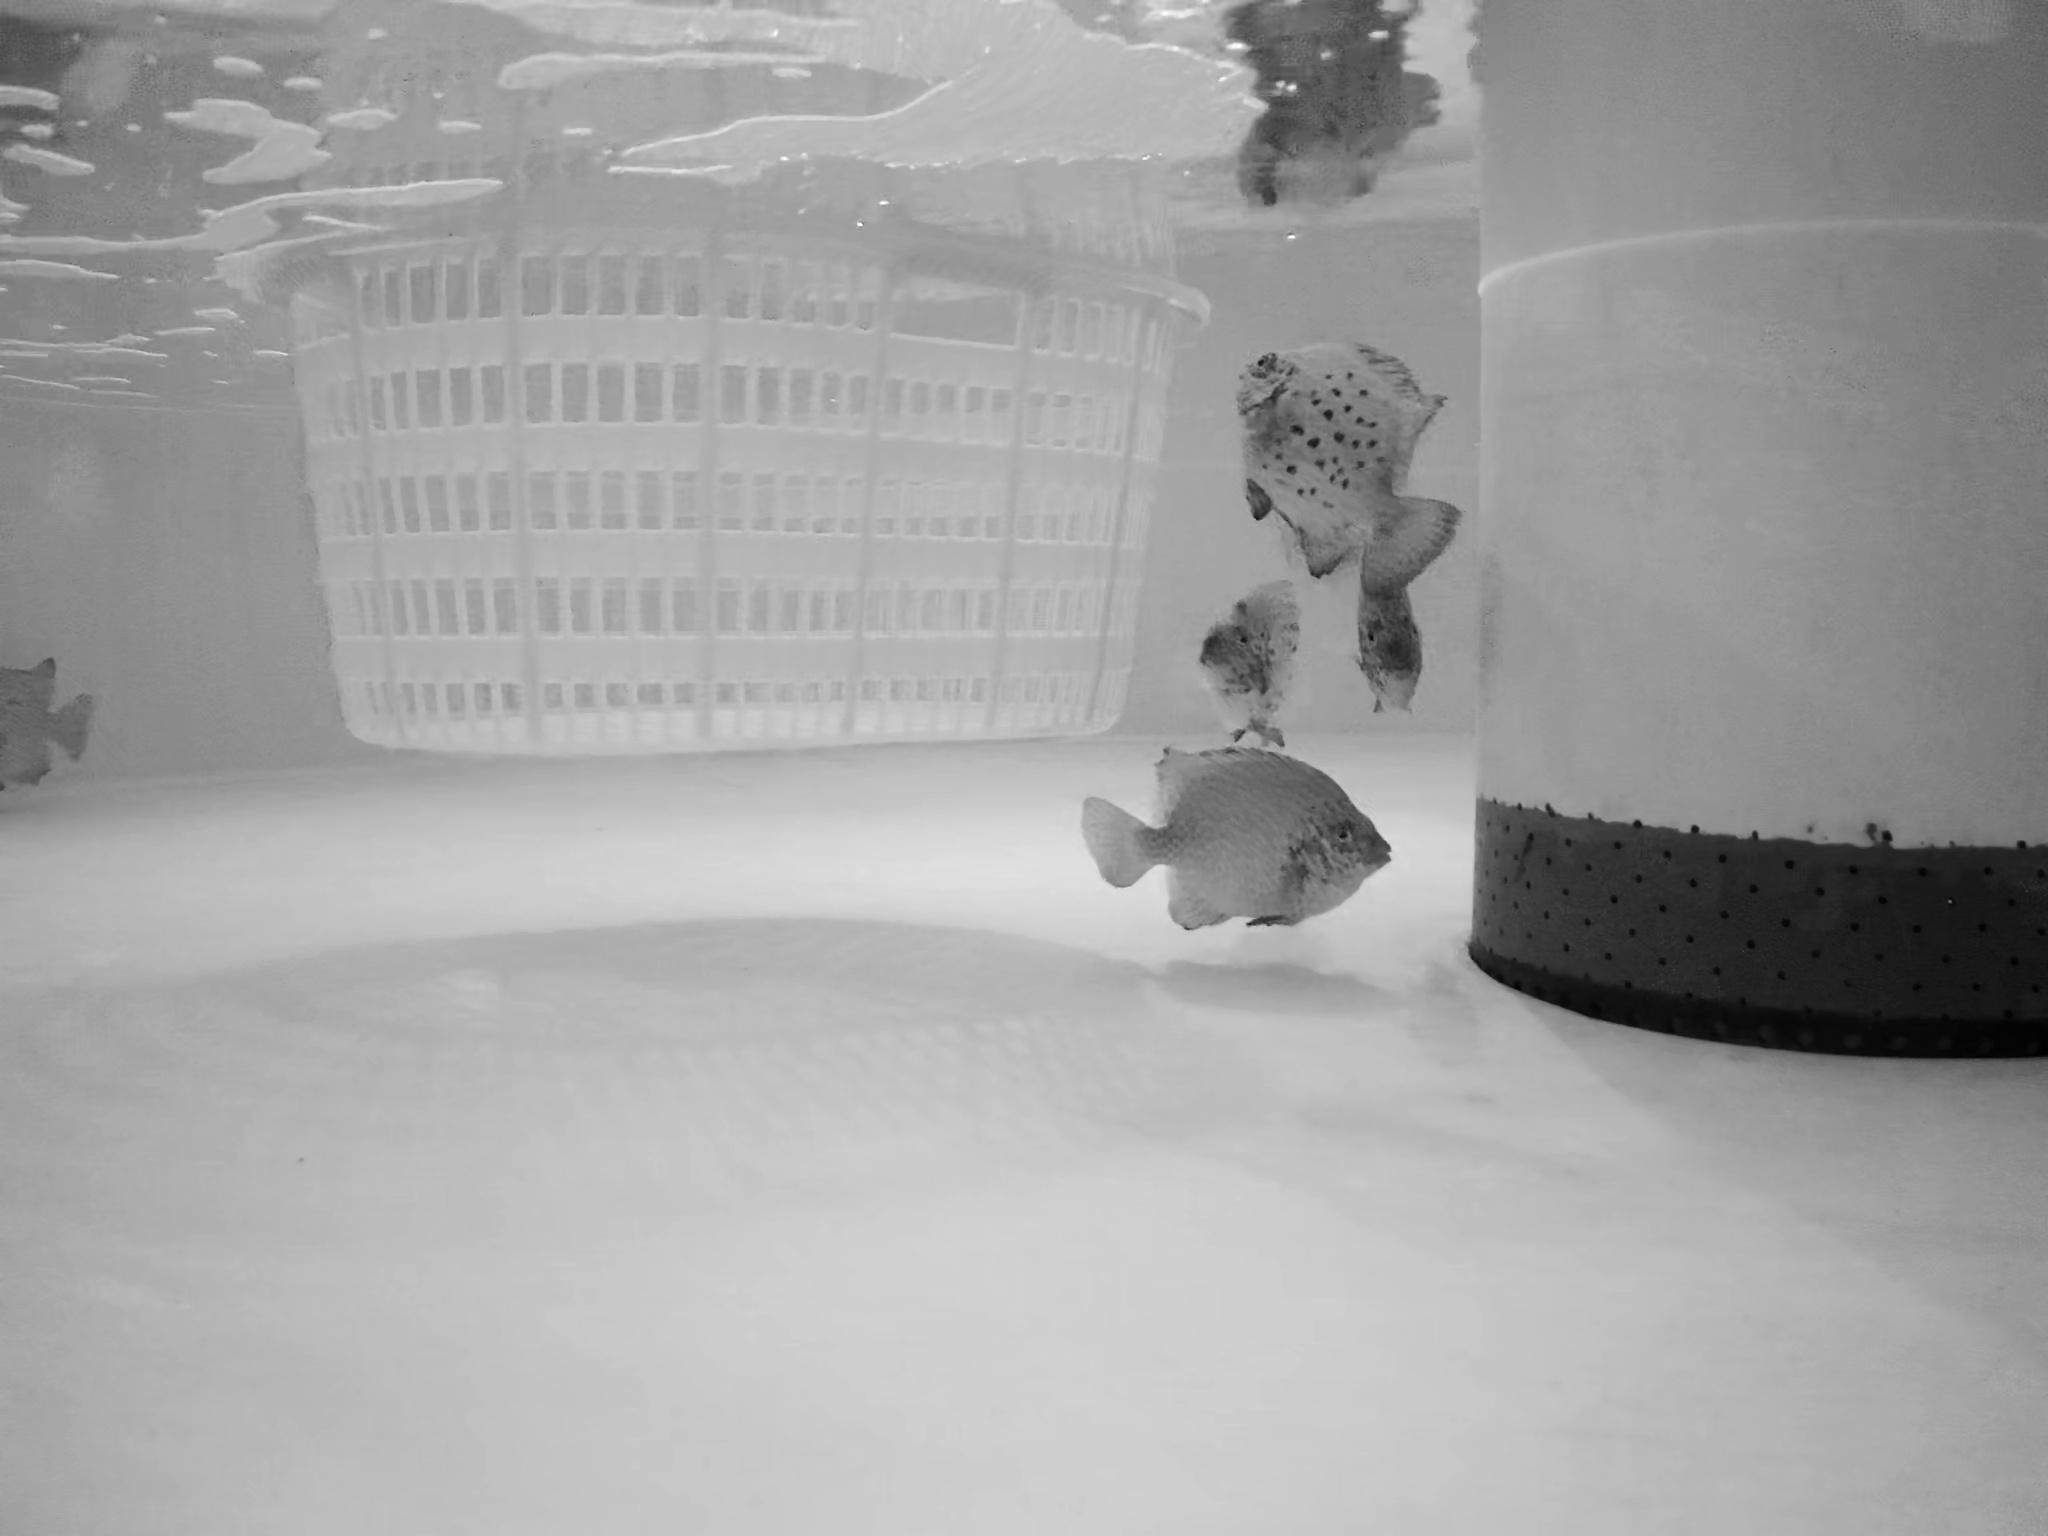fish: (1229, 329, 1469, 594), (1076, 739, 1393, 939), (1192, 570, 1293, 737), (1348, 560, 1435, 720), (2, 652, 87, 803)
